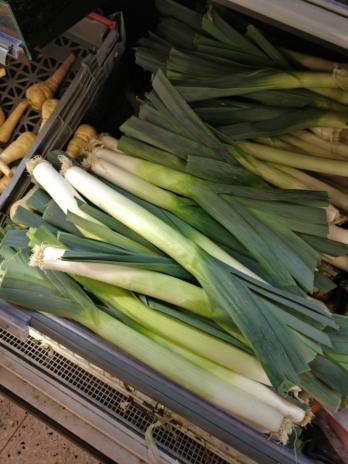Leek Leaves: (32, 159, 333, 311), (125, 67, 348, 181), (140, 5, 267, 71)
